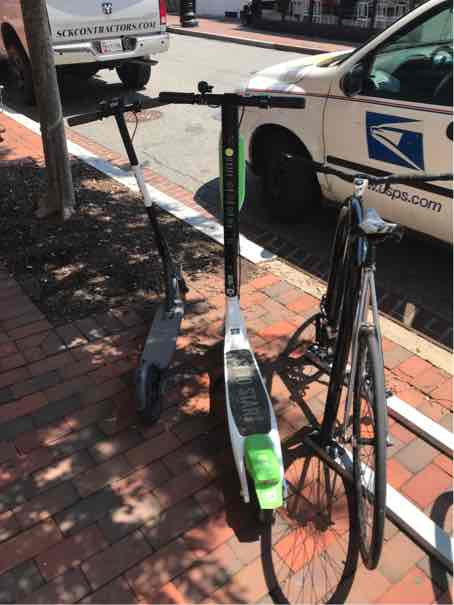scooter: (154, 74, 324, 524)
